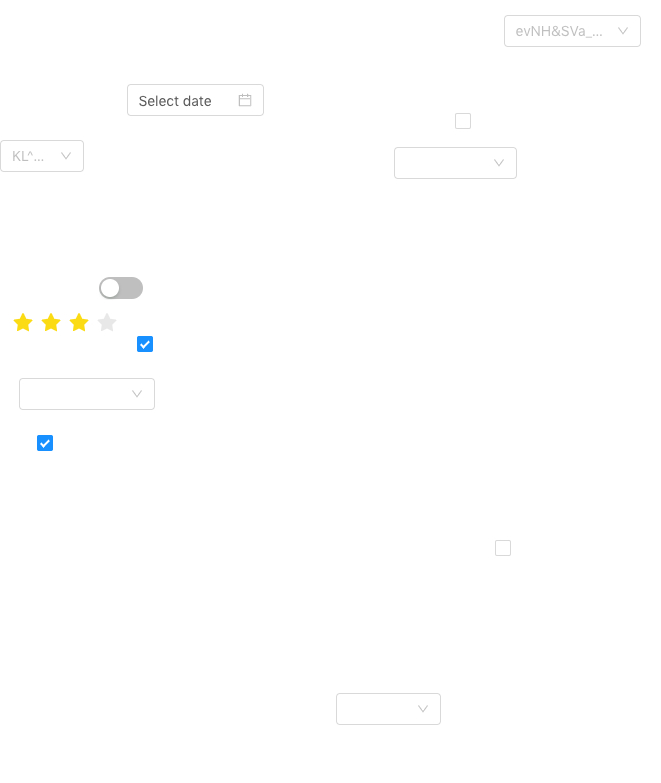Checkbox: (37, 432, 53, 453), (137, 333, 153, 354), (495, 537, 511, 558), (455, 110, 471, 131)
DatePicker: (127, 84, 264, 116)
Rate: (13, 306, 133, 338)
Select: (504, 15, 641, 47), (19, 378, 155, 410), (394, 147, 517, 179), (336, 693, 441, 725), (0, 140, 84, 172)
Switch: (99, 276, 143, 300)
